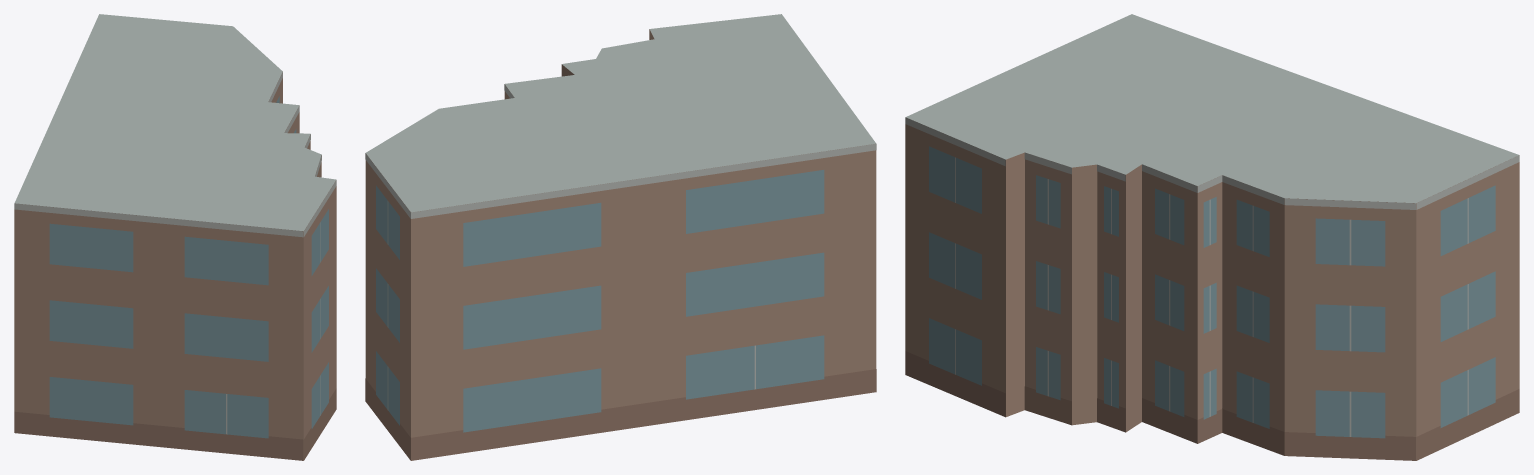
Rendered from survey-upis-32830852.glb.
3 views of the same model, side by side, from view 1: azimuth 30°, elevation 25°; view 2: azimuth 150°, elevation 25°; view 3: azimuth 270°, elevation 25° (orthographic). The views are drawn at different scales.
Visible parts, largest first — view 1: survey-upis-32830852.tmp; view 2: survey-upis-32830852.tmp; view 3: survey-upis-32830852.tmp.
Part boxes in pixels (bbox=[...]): survey-upis-32830852.tmp: bbox=[14, 14, 336, 460]; survey-upis-32830852.tmp: bbox=[365, 14, 876, 460]; survey-upis-32830852.tmp: bbox=[905, 14, 1519, 460].
Size of the model in its own units: 14.42 by 9.15 by 19.77.
